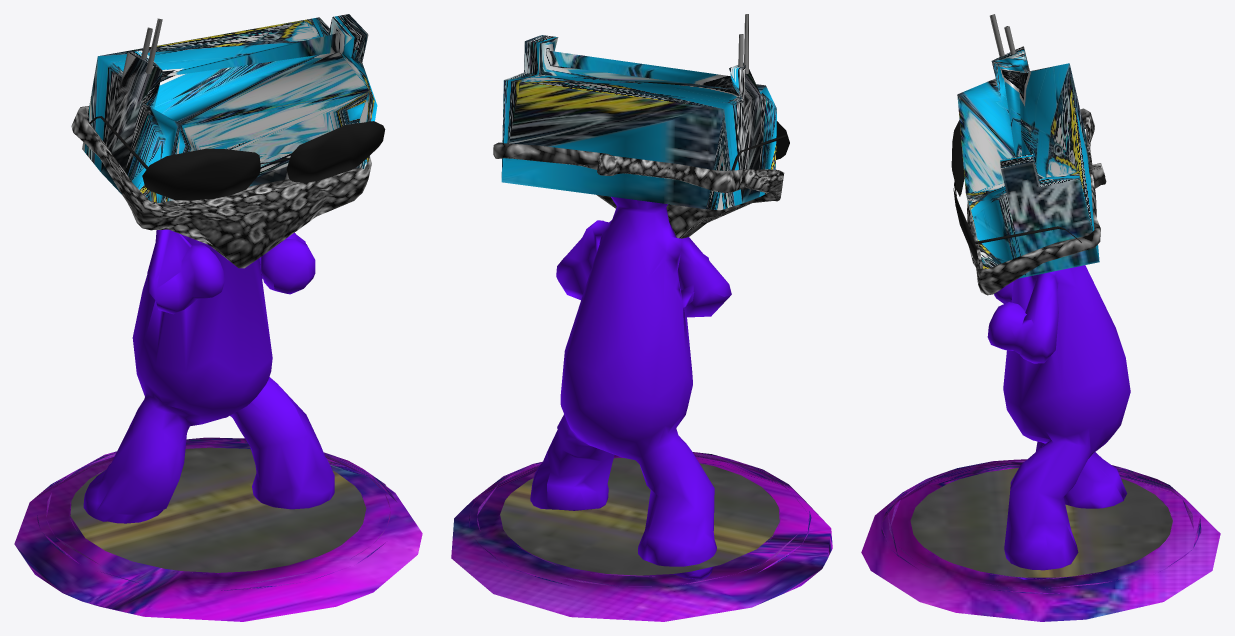
3 views of the same model, side by side, from view 1: azimuth 30°, elevation 25°; view 2: azimuth 150°, elevation 25°; view 3: azimuth 270°, elevation 25° (orthographic). The views are drawn at different scales.
Bounding box in the file's own units: 1.45 × 2.18 × 1.44.
7 materials, 4 textured.
